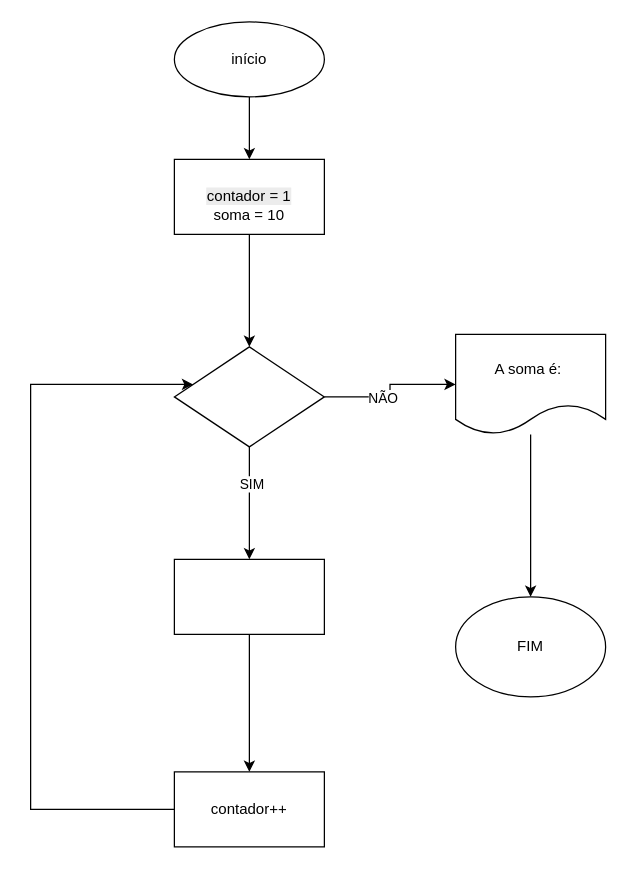
The diagram is 628 pixels wide and 869 high, and some of its shapes have lost their labels. Each missing label, with the centre of its shape:
"contador <=15?" goes at pixel 248 396.
"soma= soma + contador" goes at pixel 248 596.
